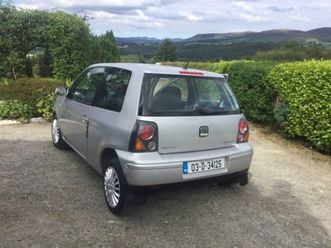car: (46, 59, 261, 222)
